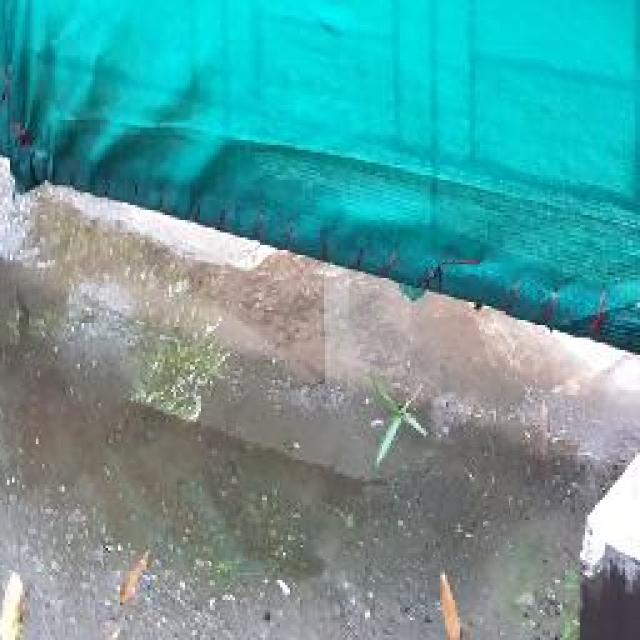puddle: (1, 266, 509, 571)
